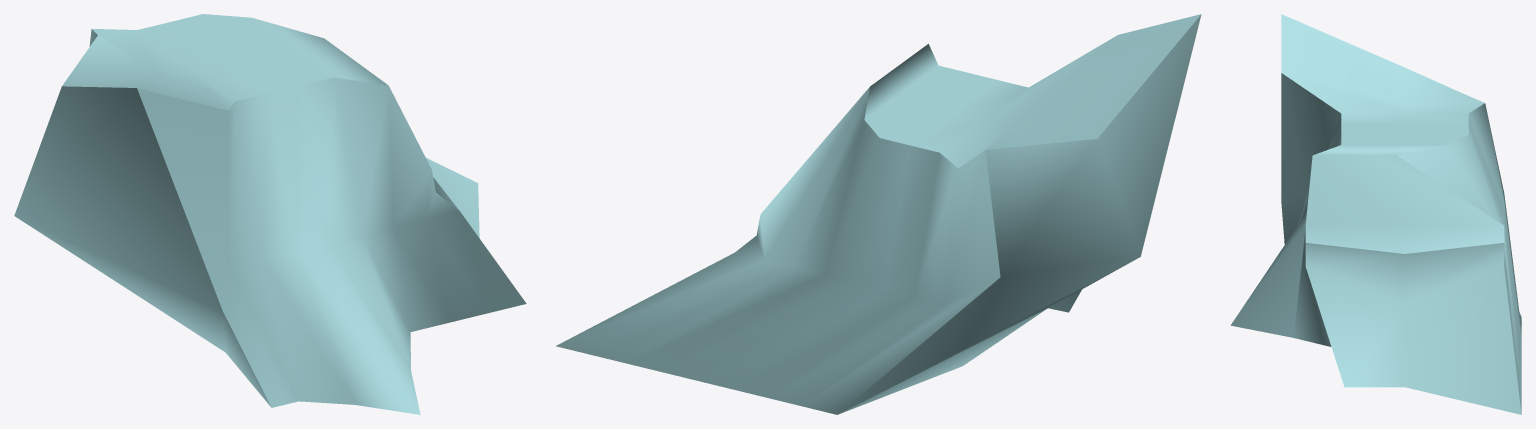
Rendered from Ice_01.fbx.
3 renders of one model, left to right at view 1: azimuth 30°, elevation 25°; view 2: azimuth 150°, elevation 25°; view 3: azimuth 270°, elevation 25°, orthographic. The views are drawn at different scales.
Visible parts, largest first — view 1: Ice_01; view 2: Ice_01; view 3: Ice_01.
Boxes of the visible parts, box(x1,y1,x2,y2) form: Ice_01: box(14, 14, 526, 414); Ice_01: box(555, 14, 1201, 414); Ice_01: box(1230, 14, 1521, 414).
Bounding box in the file's own units: 1930 × 1194 × 1347.
